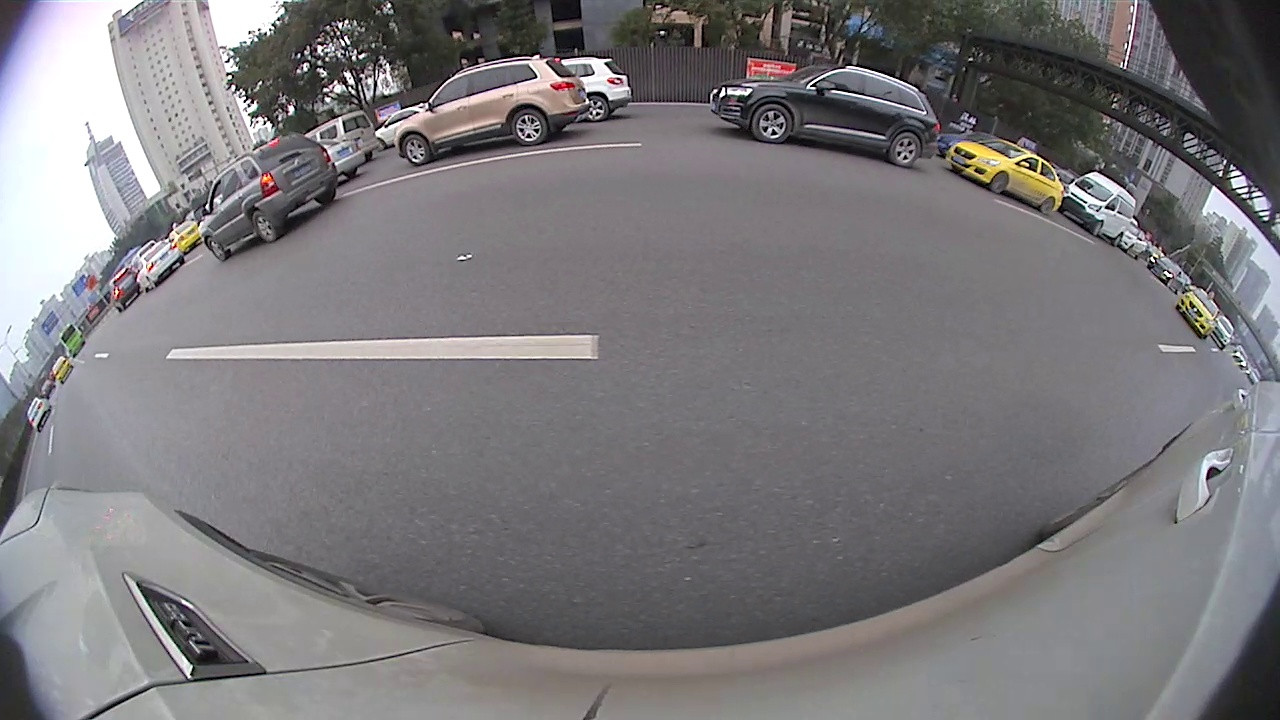car: (709, 66, 941, 169), (394, 55, 589, 167), (198, 131, 338, 261), (945, 136, 1063, 219), (1060, 169, 1139, 249), (558, 56, 634, 122), (305, 109, 380, 163), (135, 240, 184, 296), (1175, 287, 1219, 340), (313, 139, 367, 177), (1145, 254, 1183, 290), (168, 219, 206, 252)
front: (754, 106, 791, 142), (399, 136, 430, 162), (208, 238, 228, 258), (991, 174, 1010, 192)
rear: (511, 113, 549, 146), (892, 134, 922, 165), (251, 212, 279, 241), (585, 94, 609, 118), (1042, 198, 1055, 215)
